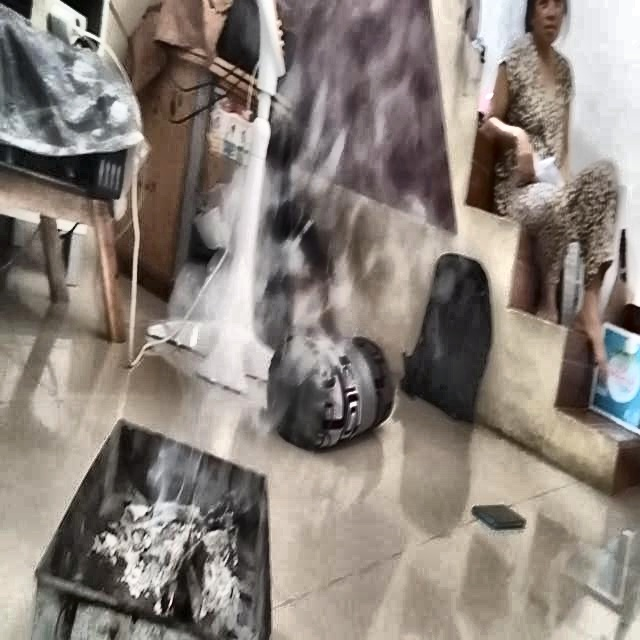smoke: (225, 61, 422, 303), (128, 344, 272, 605)
